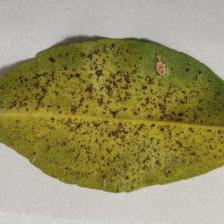canker: (61, 71, 168, 178)
